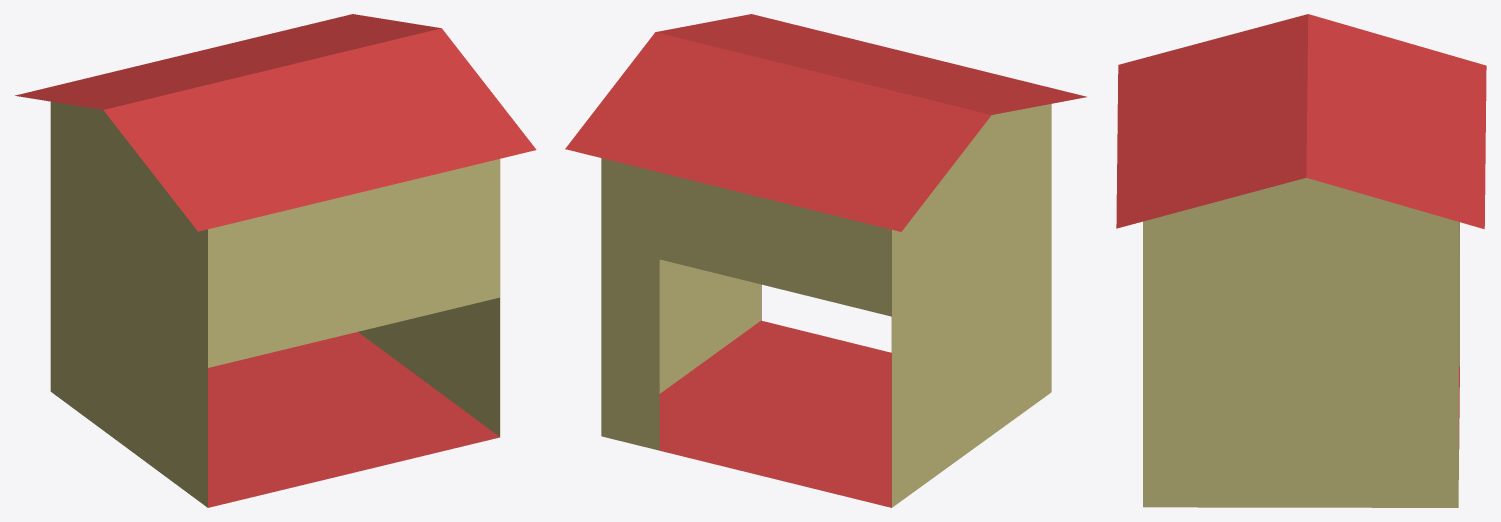
3 renders of one model, left to right at view 1: azimuth 30°, elevation 25°; view 2: azimuth 150°, elevation 25°; view 3: azimuth 270°, elevation 25°, orthographic.
Bounding box in the file's own units: 11.07 × 10.52 × 10.7.
